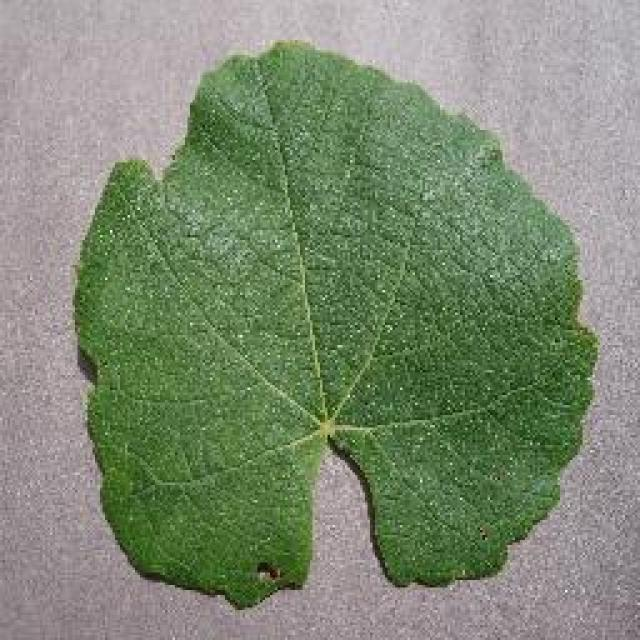Healthy: (80, 39, 599, 616)
